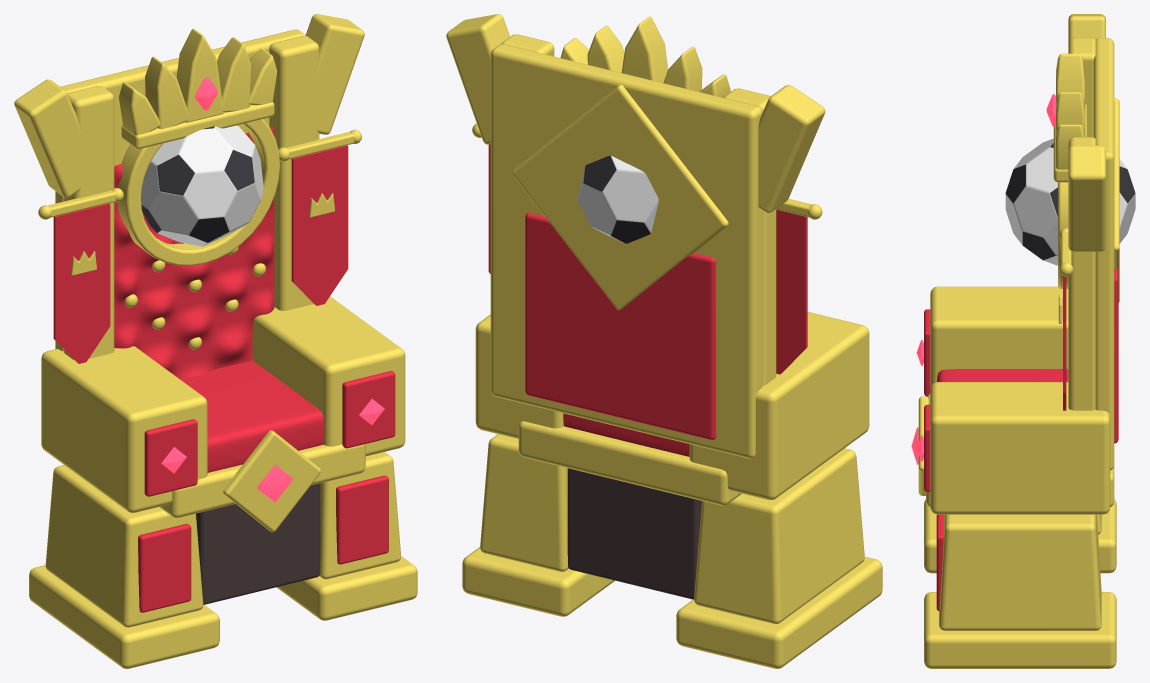
Rendered from RoyalFootballThrone.fbx.
3 views of the same model, side by side, from view 1: azimuth 30°, elevation 25°; view 2: azimuth 150°, elevation 25°; view 3: azimuth 270°, elevation 25° (orthographic). The views are drawn at different scales.
Visible parts, largest first — view 1: Armrest_L, Tuft_Panel, Pillar_L, Armrest_R, Soccer_Ball, Underside_Hollow, Cushion_Red, Foot_L, Banner_R, Banner_L, Backrest_Post_R, Ring_Emblem (+21 smaller); view 2: Backboard, Back_Panel, Back_Ring_Disc, Pillar_L, Armrest_L, Underside_Hollow, Pillar_R, Foot_L, Seat_Frame, Foot_R, WingSpike_L, Soccer_Ball (+9 smaller); view 3: Armrest_R, Pillar_R, Armrest_L, Foot_R, Backboard, Soccer_Ball, Backrest_Post_R, WingSpike_R, Foot_L, Cushion_Red, Backrest_Post_L, Crown_Peak_Center (+12 smaller).
Boxes of the visible parts, left/top/right/bottom form: Armrest_L: left=41, top=346, right=207, bottom=512; Tuft_Panel: left=114, top=127, right=274, bottom=378; Pillar_L: left=45, top=465, right=203, bottom=627; Armrest_R: left=252, top=296, right=405, bottom=456; Soccer_Ball: left=141, top=125, right=263, bottom=246; Underside_Hollow: left=196, top=483, right=320, bottom=604; Cushion_Red: left=180, top=361, right=324, bottom=472; Foot_L: left=29, top=565, right=219, bottom=668; Banner_R: left=291, top=145, right=348, bottom=305; Banner_L: left=53, top=203, right=110, bottom=363; Backrest_Post_R: left=269, top=36, right=319, bottom=310; Ring_Emblem: left=117, top=119, right=279, bottom=265; Backboard: left=490, top=44, right=762, bottom=458; Back_Panel: left=525, top=212, right=715, bottom=439; Back_Ring_Disc: left=512, top=84, right=728, bottom=310; Pillar_L: left=694, top=448, right=864, bottom=624; Armrest_L: left=689, top=312, right=869, bottom=500; Underside_Hollow: left=567, top=468, right=701, bottom=599; Pillar_R: left=480, top=434, right=568, bottom=571; Foot_L: left=676, top=556, right=882, bottom=668; Seat_Frame: left=518, top=421, right=741, bottom=505; Foot_R: left=462, top=547, right=614, bottom=616; WingSpike_L: left=758, top=85, right=825, bottom=212; Soccer_Ball: left=577, top=155, right=658, bottom=243; Armrest_R: left=930, top=382, right=1110, bottom=514; Pillar_R: left=939, top=514, right=1101, bottom=630; Armrest_L: left=930, top=286, right=1068, bottom=388; Foot_R: left=924, top=592, right=1116, bottom=668; Backboard: left=1093, top=38, right=1114, bottom=470; Soccer_Ball: left=1005, top=138, right=1135, bottom=265; Backrest_Post_R: left=1068, top=137, right=1095, bottom=410; WingSpike_R: left=1068, top=145, right=1105, bottom=251; Foot_L: left=924, top=499, right=1116, bottom=573; Cushion_Red: left=937, top=369, right=1068, bottom=381; Backrest_Post_L: left=1068, top=38, right=1095, bottom=137; Crown_Peak_Center: left=1056, top=55, right=1085, bottom=103.
Bounding box in the file's own units: 1.83 × 2.87 × 1.07.
